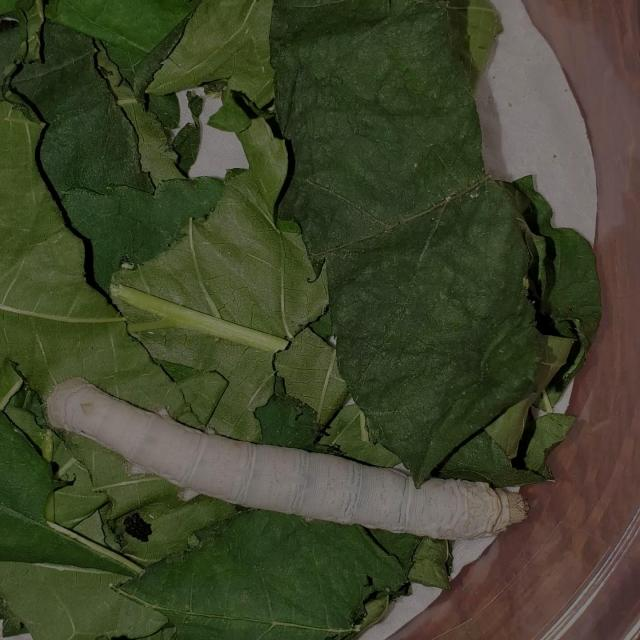Healthy: (38, 358, 533, 561)
